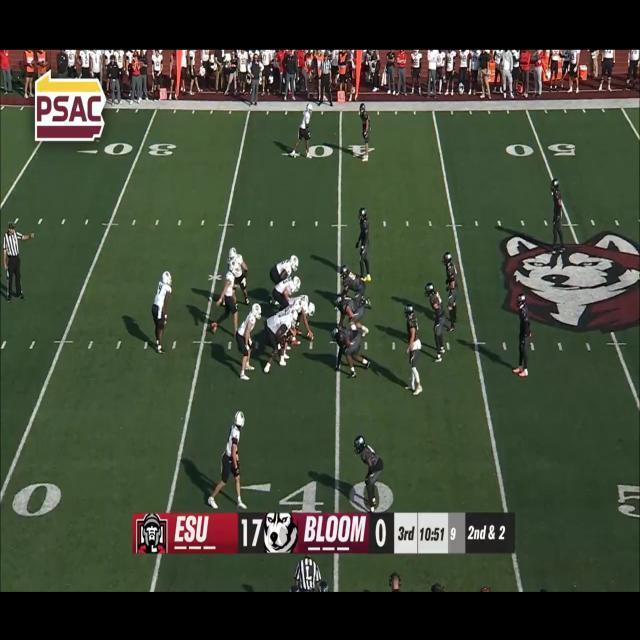football: (304, 329, 316, 342)
